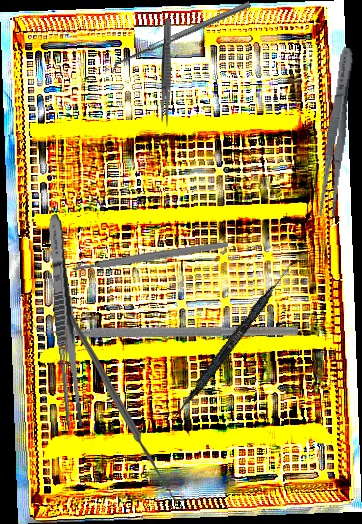Chopper: (22, 194, 301, 453)
Dressing Forceps: (42, 213, 87, 428), (315, 46, 359, 218), (160, 17, 173, 128)
Hook Surgical: (66, 313, 188, 502)
Scalpel Handle: (72, 239, 229, 274)
Spatula Surgical: (170, 253, 300, 425), (108, 1, 254, 75)
